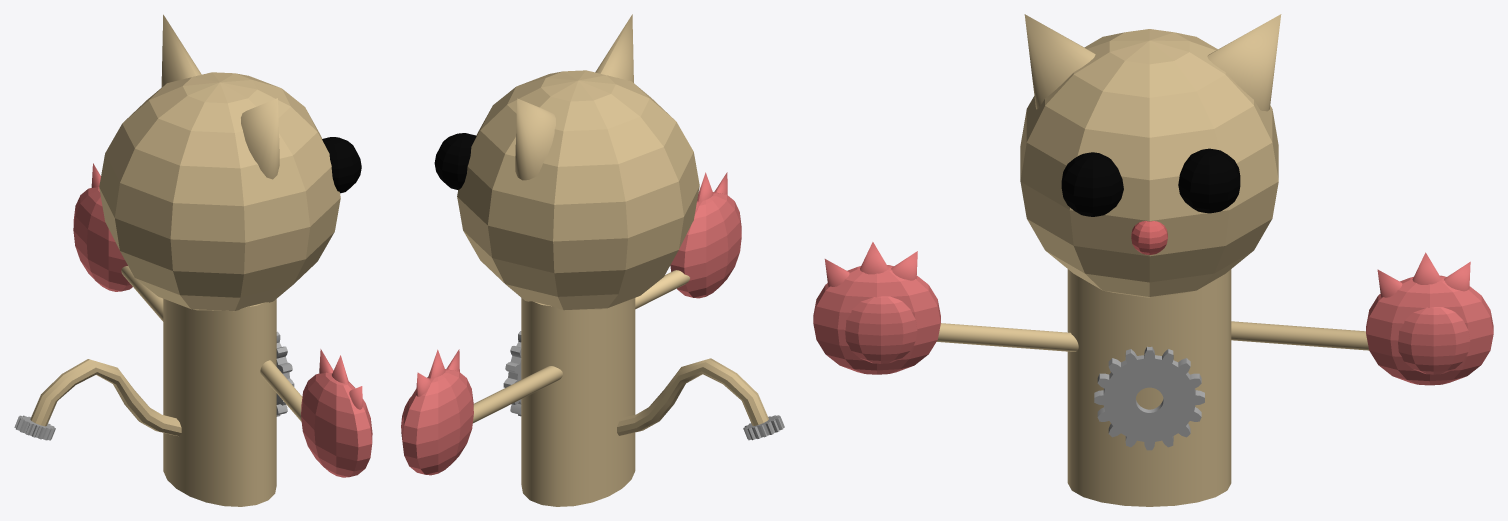
File: RoboCat.fbx
3 views of the same model, side by side, from view 1: azimuth 30°, elevation 25°; view 2: azimuth 150°, elevation 25°; view 3: azimuth 270°, elevation 25° (orthographic). The views are drawn at different scales.
Visible parts, largest first — view 1: polySurface711; view 2: polySurface711; view 3: polySurface711.
Part boxes in pixels (x1=…): polySurface711: x1=14, y1=14, x2=372, y2=506; polySurface711: x1=401, y1=14, x2=784, y2=506; polySurface711: x1=813, y1=14, x2=1493, y2=506.
Bounding box in the file's own units: 2.22 × 2.78 × 3.65.
